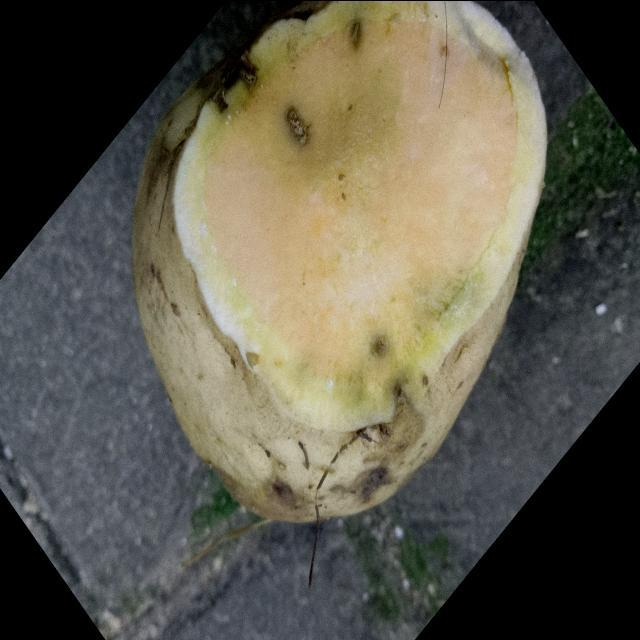Sick Sweet Potato_Tuber Rot: (174, 2, 546, 430)
